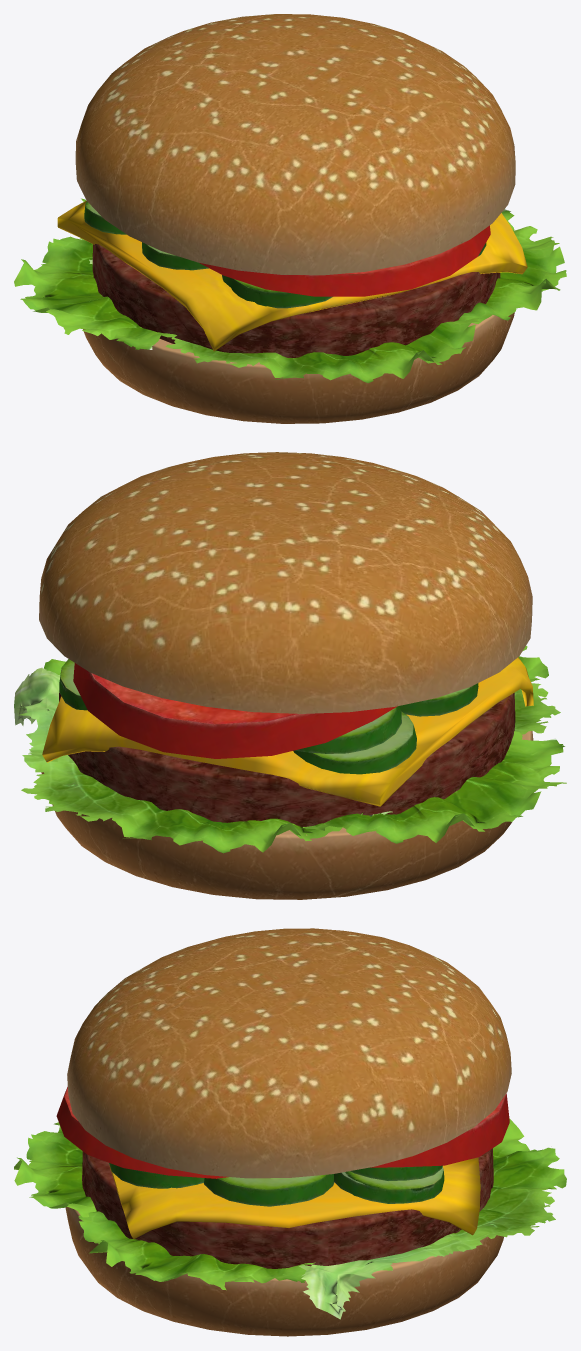
The model's file is realburger.glb.
The picture shows the model from 3 angles, top to bottom: view 1: azimuth 30°, elevation 25°; view 2: azimuth 150°, elevation 25°; view 3: azimuth 270°, elevation 25°; orthographic projection. The views are drawn at different scales.
Parts seen in each view (by area): view 1: bun, vegeis, pPlane16, pPlane17, pPlane14; view 2: bun, vegeis, pPlane15, pPlane16, pPlane17; view 3: bun, vegeis, pPlane15, pPlane14, pPlane17.
Part boxes in pixels (<box>): bun: <box>57,14,527,423</box>; vegeis: <box>84,201,490,308</box>; pPlane16: <box>14,236,176,349</box>; pPlane17: <box>89,254,481,383</box>; pPlane14: <box>454,210,566,323</box>; bun: <box>39,452,533,899</box>; vegeis: <box>59,659,478,774</box>; pPlane15: <box>14,667,362,853</box>; pPlane16: <box>298,731,566,843</box>; pPlane17: <box>369,645,560,816</box>; bun: <box>65,928,511,1336</box>; vegeis: <box>56,1086,509,1206</box>; pPlane15: <box>299,1118,566,1319</box>; pPlane14: <box>78,1209,315,1290</box>; pPlane17: <box>14,1122,95,1217</box>.
Size of the model in its own units: 0.1374 by 0.0798 by 0.139.
Materials: 3 (3 with a texture image).
